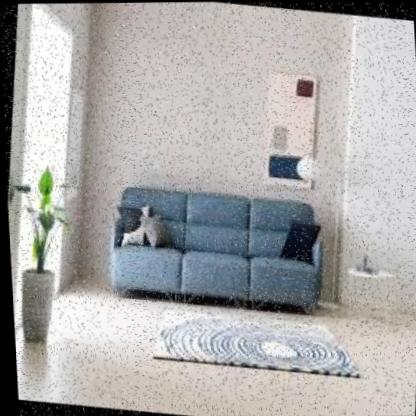Sofa: (90, 159, 338, 330)
